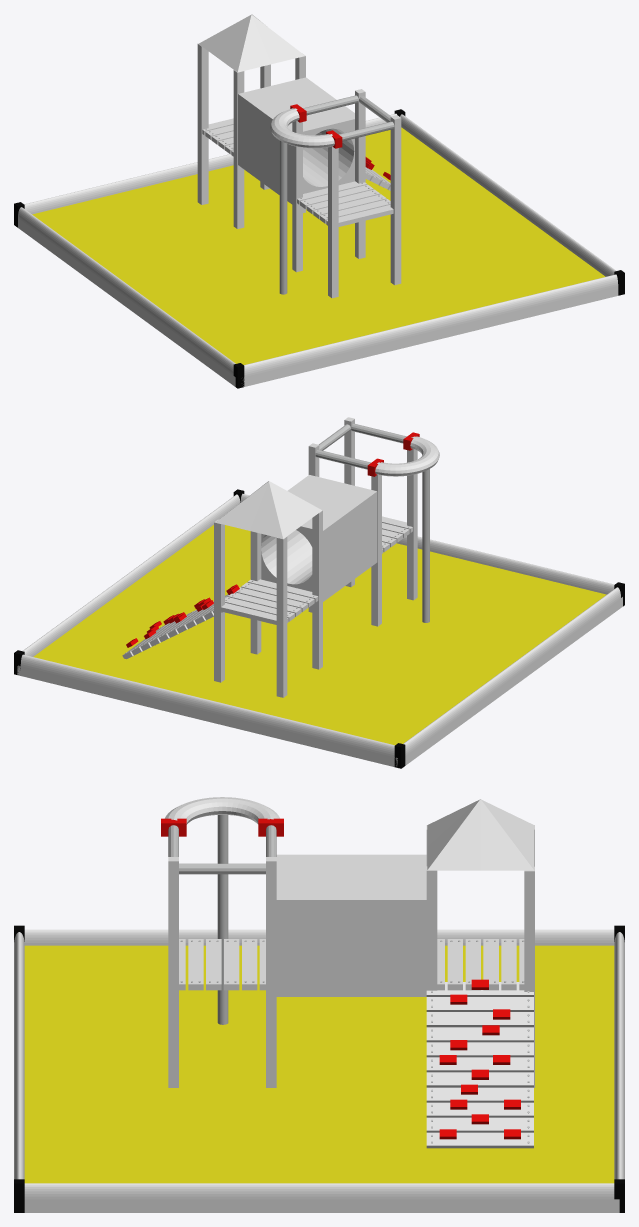
File: speeltuin.fbx
3 views of the same model, one above another, from view 1: azimuth 30°, elevation 25°; view 2: azimuth 150°, elevation 25°; view 3: azimuth 270°, elevation 25° (orthographic). The views are drawn at different scales.
Parts seen in each view (by area): view 1: Cube, zandrand.001, Cube.009, zandrand.003, Cube.020, zandrand.002, zandrand, Cube.005, Cube.014, Cube.018, Cube.010, Cube.011 (+5 smaller); view 2: Cube, zandrand, Cube.009, zandrand.003, Cube.020, zandrand.002, Cube.021, zandrand.001, Cube.018, Cylinder.007, Cube.019, Cube.017 (+7 smaller); view 3: Cube, Cube.009, zandrand.002, Cylinder.007, Cube.020, zandrand.003, Cube.005, Cube.021, zandrand, zandrand.001, Cube.014, Cube.015 (+5 smaller).
Boxes of the visible parts, bbox=[...] form: Cube: bbox=[32, 127, 605, 364]; zandrand.001: bbox=[243, 274, 618, 386]; Cube.009: bbox=[238, 77, 354, 204]; zandrand.003: bbox=[18, 207, 235, 386]; Cube.020: bbox=[198, 14, 304, 72]; zandrand.002: bbox=[400, 114, 615, 276]; zandrand: bbox=[24, 113, 396, 214]; Cube.005: bbox=[297, 181, 393, 226]; Cube.014: bbox=[390, 115, 401, 285]; Cube.018: bbox=[197, 44, 208, 204]; Cube.010: bbox=[328, 146, 338, 298]; Cube.011: bbox=[292, 121, 302, 272]; Cube: bbox=[33, 525, 606, 745]; zandrand: bbox=[17, 654, 397, 767]; Cube.009: bbox=[261, 475, 377, 601]; zandrand.003: bbox=[403, 587, 622, 765]; Cube.020: bbox=[215, 481, 321, 538]; zandrand.002: bbox=[22, 494, 240, 656]; Cube.021: bbox=[221, 579, 318, 624]; zandrand.001: bbox=[240, 493, 614, 594]; Cube.018: bbox=[276, 536, 287, 697]; Cylinder.007: bbox=[122, 584, 239, 659]; Cube.019: bbox=[214, 519, 224, 682]; Cube.017: bbox=[312, 510, 322, 669]; Cube: bbox=[24, 945, 614, 1183]; Cube.009: bbox=[276, 854, 426, 996]; zandrand.002: bbox=[24, 1183, 619, 1212]; Cylinder.007: bbox=[426, 979, 533, 1148]; Cube.020: bbox=[427, 799, 534, 870]; zandrand.003: bbox=[24, 929, 614, 945]; Cube.005: bbox=[179, 939, 265, 990]; Cube.021: bbox=[429, 939, 524, 990]; zandrand: bbox=[614, 932, 624, 1179]; zandrand.001: bbox=[14, 932, 24, 1179]; Cube.014: bbox=[168, 857, 178, 1087]; Cube.015: bbox=[266, 857, 276, 1087].
Size of the model in its own units: 5700 by 2900 by 5700.
